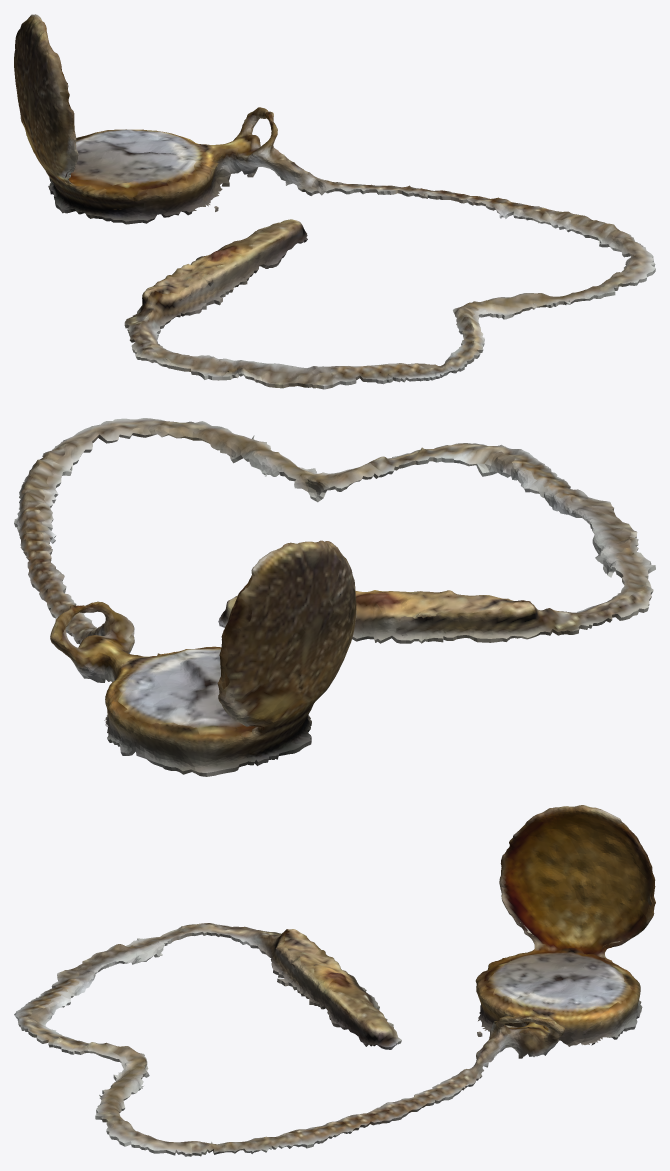
File: ChesnaCOMPRESSED.glb
3 renders of one model, top to bottom at view 1: azimuth 30°, elevation 25°; view 2: azimuth 150°, elevation 25°; view 3: azimuth 270°, elevation 25°, orthographic. The views are drawn at different scales.
Visible parts, largest first — view 1: mesh.002; view 2: mesh.002; view 3: mesh.002.
Part boxes in pixels (x1,y1,x2,y2): mesh.002: [14, 14, 655, 389]; mesh.002: [14, 418, 655, 776]; mesh.002: [14, 805, 655, 1156].
Bounding box in the file's own units: 4.18 × 1.46 × 4.87.
1 material, 1 textured.
